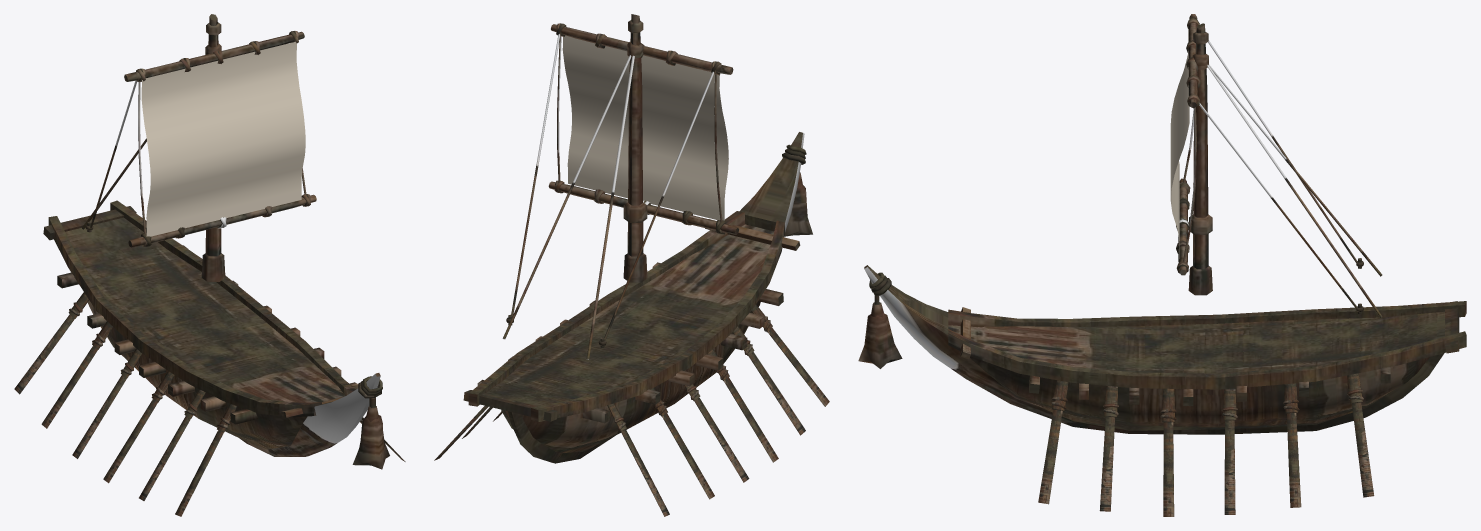
The model's file is 277-wasen.glb.
The picture shows the model from 3 angles, left to right: view 1: azimuth 30°, elevation 25°; view 2: azimuth 150°, elevation 25°; view 3: azimuth 270°, elevation 25°; orthographic projection.
Bounding box in the file's own units: 3.62 × 5.91 × 7.55.
Materials: 2 (1 with a texture image).
